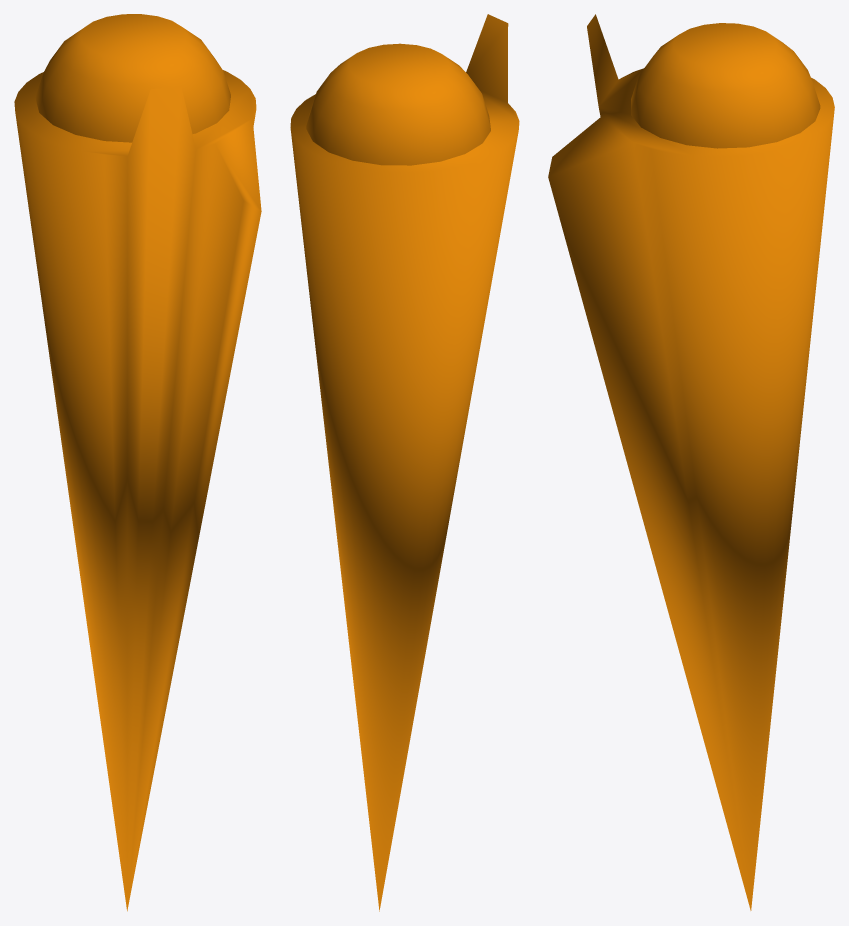
3 views of the same model, side by side, from view 1: azimuth 30°, elevation 25°; view 2: azimuth 150°, elevation 25°; view 3: azimuth 270°, elevation 25° (orthographic). The views are drawn at different scales.
Visible parts, largest first — view 1: Sphere; view 2: Sphere; view 3: Sphere.
Part boxes in pixels (box(x1,y1,x2,y2)): Sphere: box(14, 14, 261, 911); Sphere: box(290, 14, 519, 911); Sphere: box(548, 14, 834, 910).
Bounding box in the file's own units: 0.7625 × 3.1 × 0.9256.
